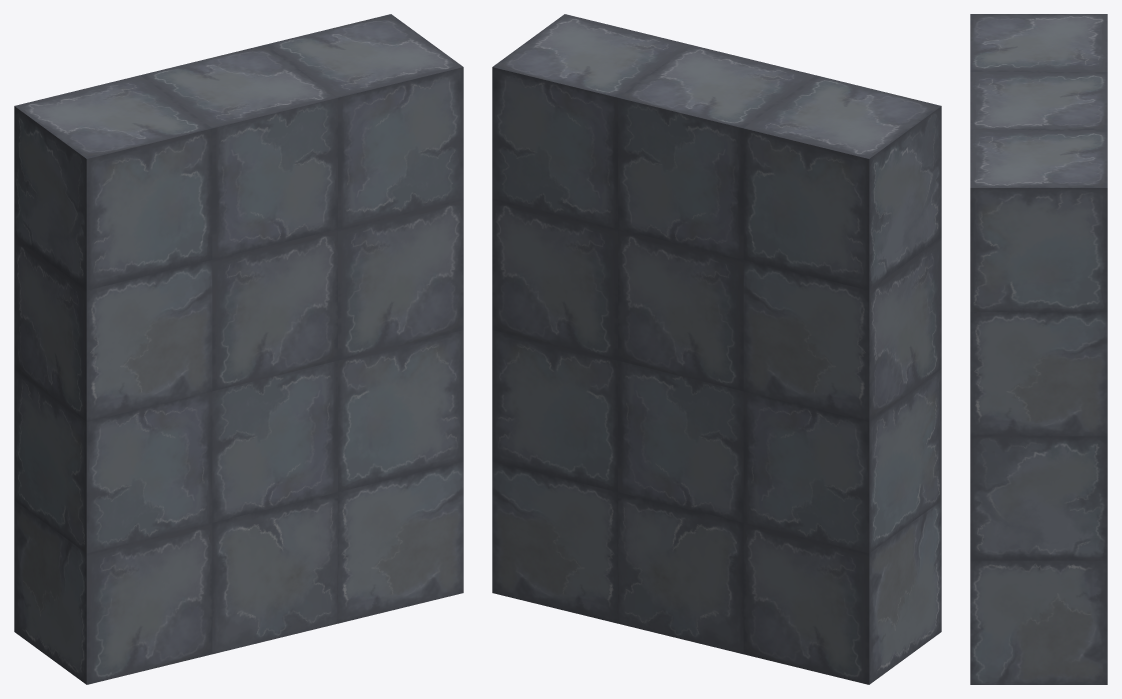
The model's file is Castle Block 3x4.fbx.
3 renders of one model, left to right at view 1: azimuth 30°, elevation 25°; view 2: azimuth 150°, elevation 25°; view 3: azimuth 270°, elevation 25°, orthographic. The views are drawn at different scales.
Visible parts, largest first — view 1: Castle Block 3x4; view 2: Castle Block 3x4; view 3: Castle Block 3x4.
Boxes of the visible parts, box(x1,y1,x2,y2) form: Castle Block 3x4: box(14, 14, 463, 684); Castle Block 3x4: box(492, 14, 941, 684); Castle Block 3x4: box(970, 14, 1107, 684).
Size of the model in its own units: 2.25 by 3 by 0.75.
